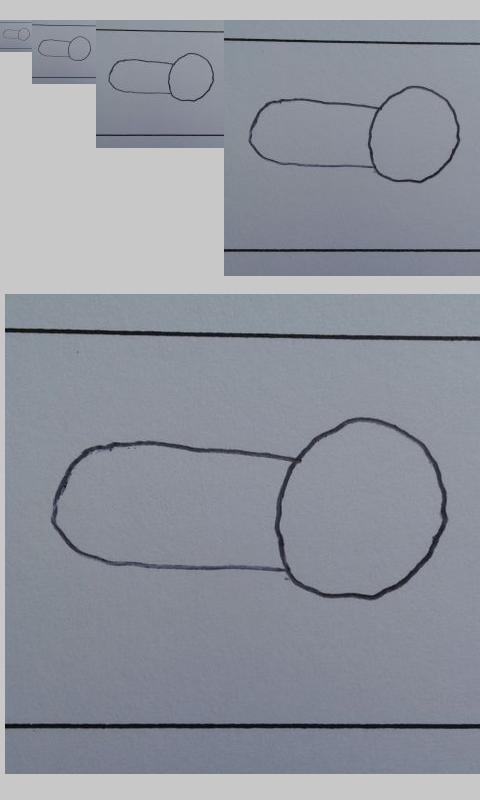switch: (49, 416, 450, 601), (247, 84, 462, 184), (107, 52, 215, 102), (37, 35, 92, 62), (2, 27, 31, 41)
